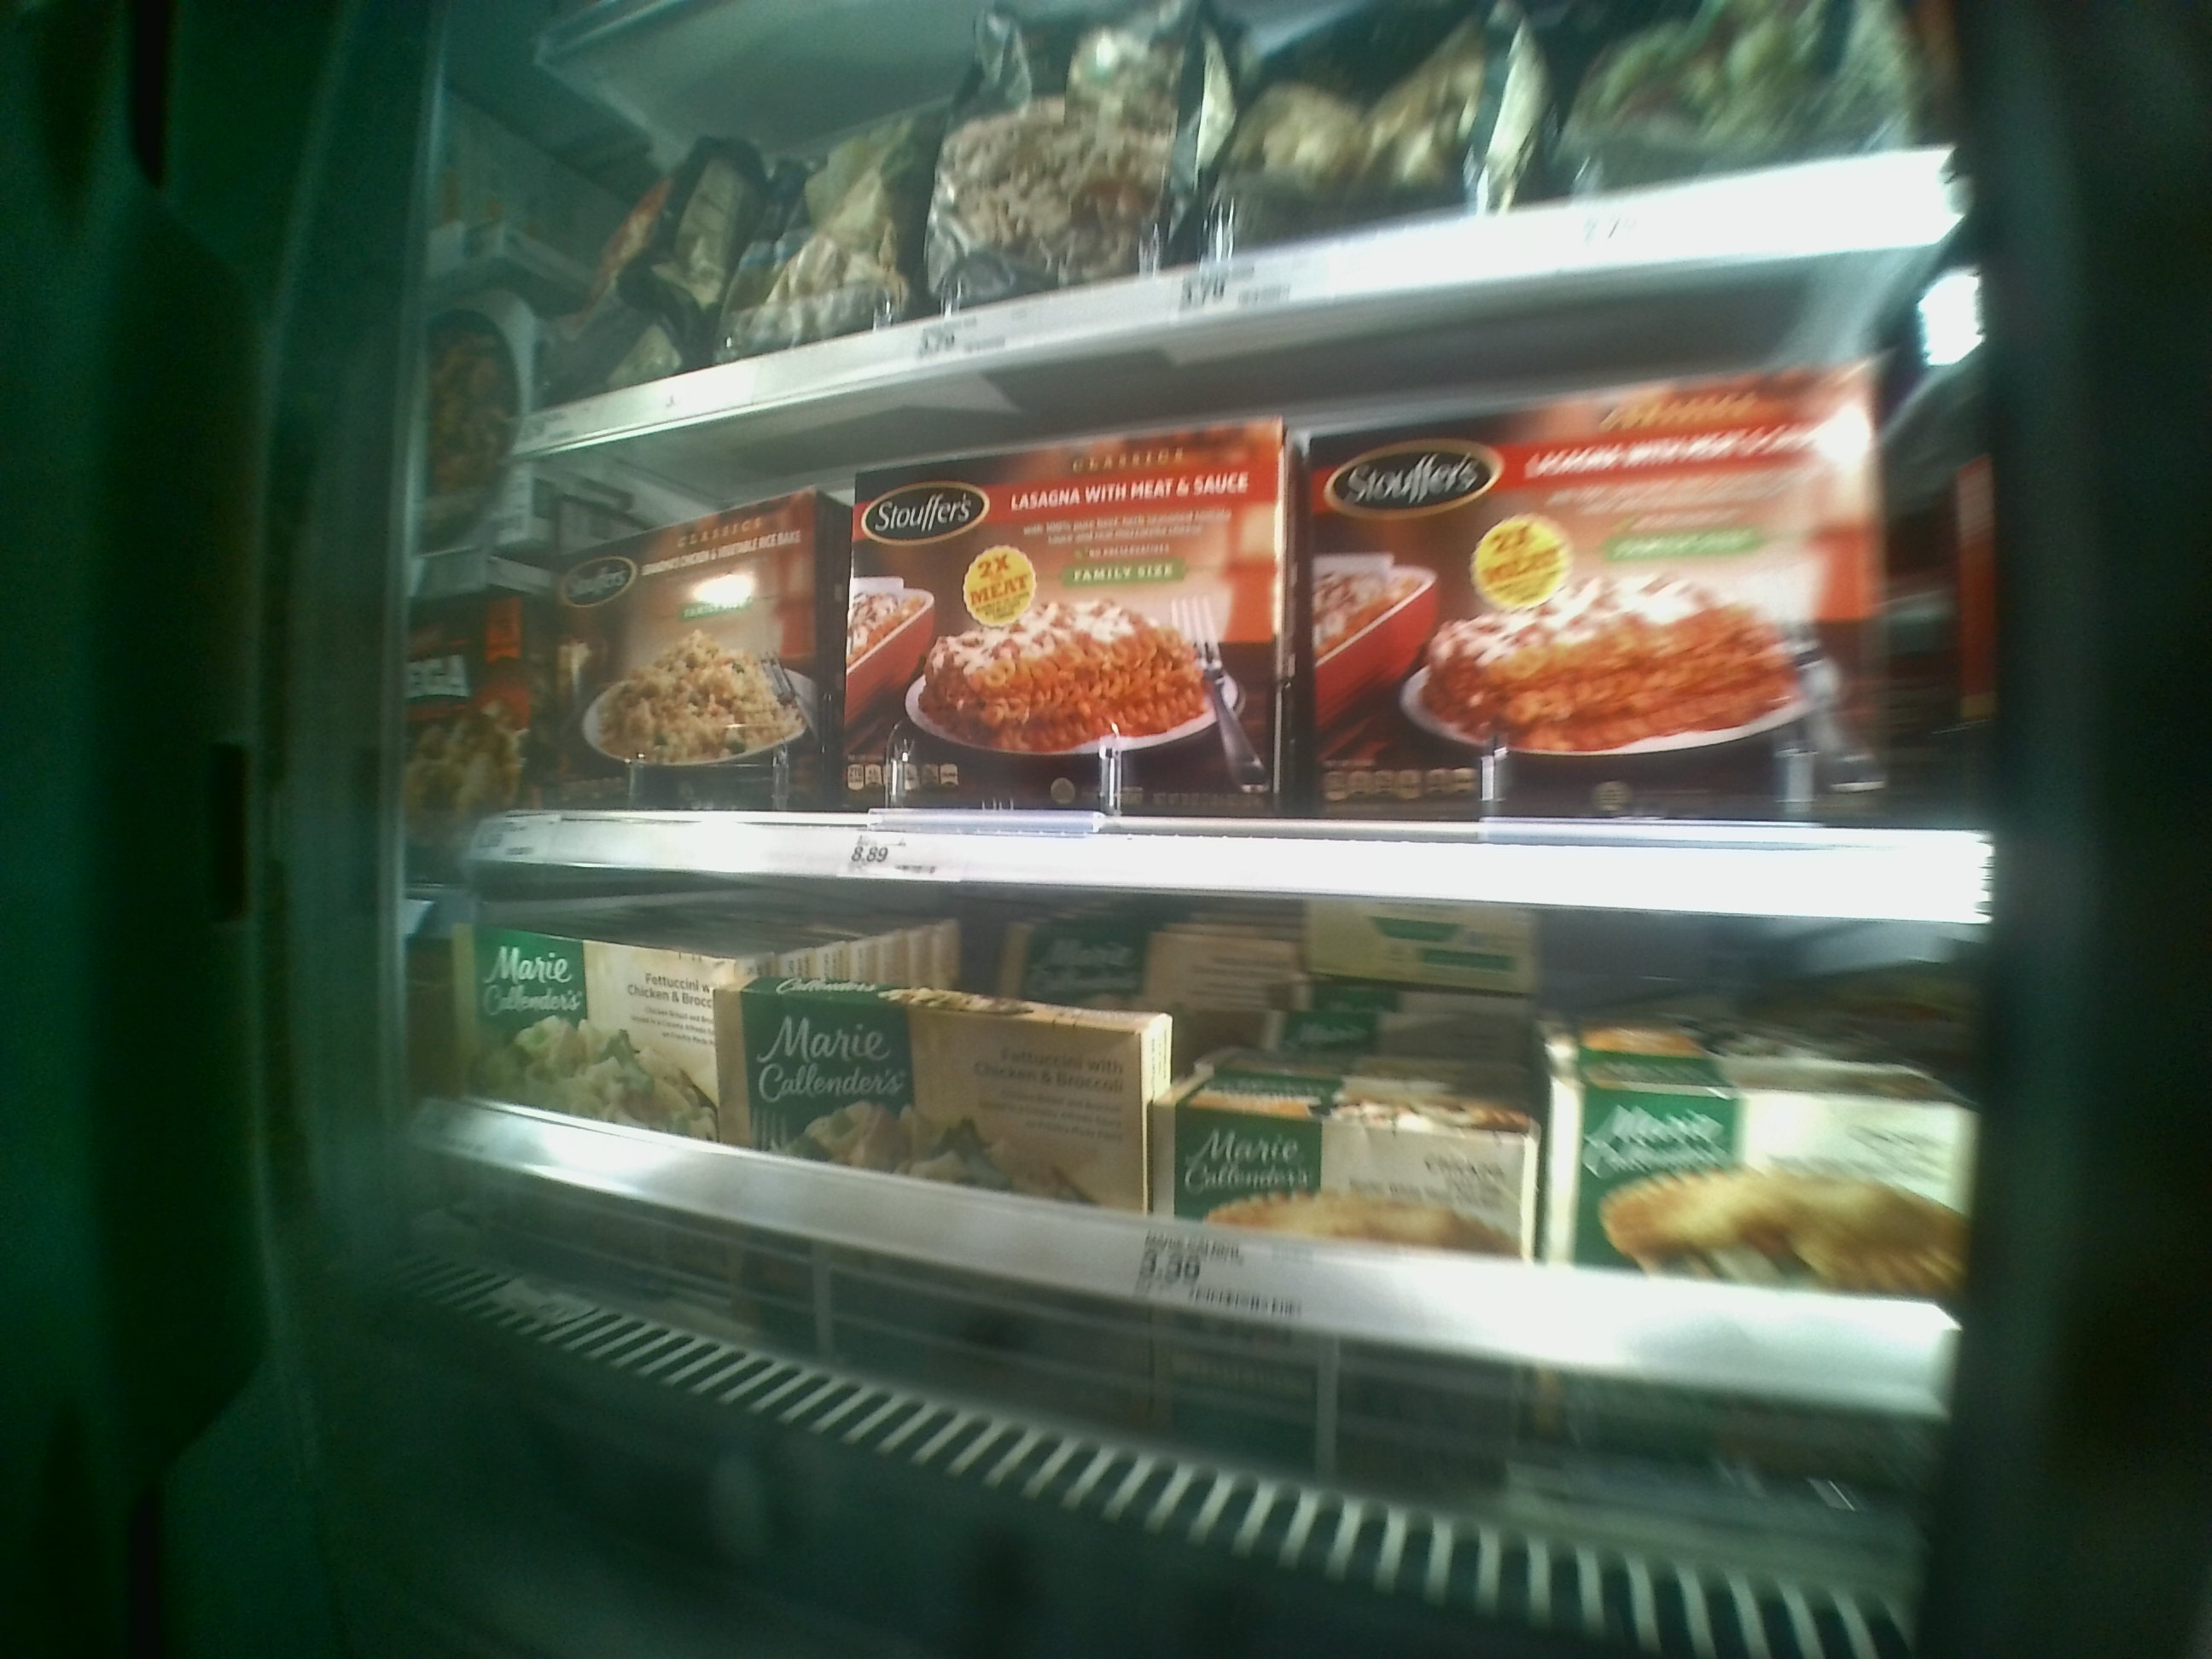shelf: (472, 232, 1986, 927), (423, 828, 1965, 1502)
